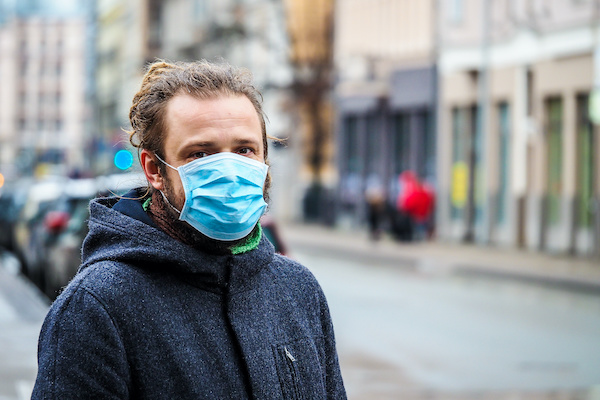surgical: (174, 151, 273, 243)
